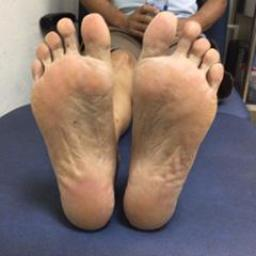Plantar View -Both Feet-: (24, 6, 230, 238)
